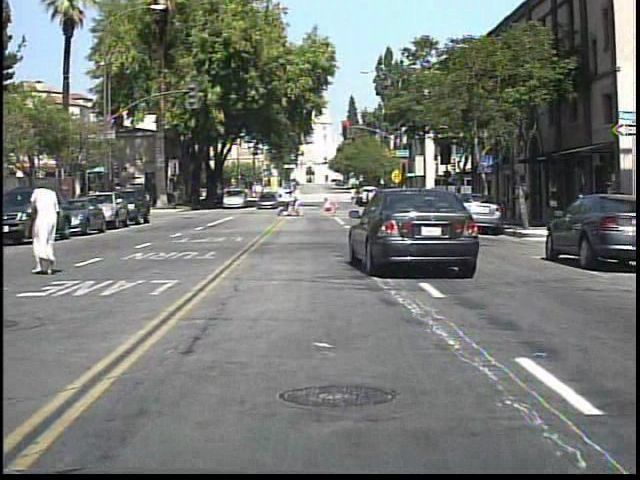person: (27, 182, 71, 275), (513, 175, 537, 228), (290, 183, 307, 221)
